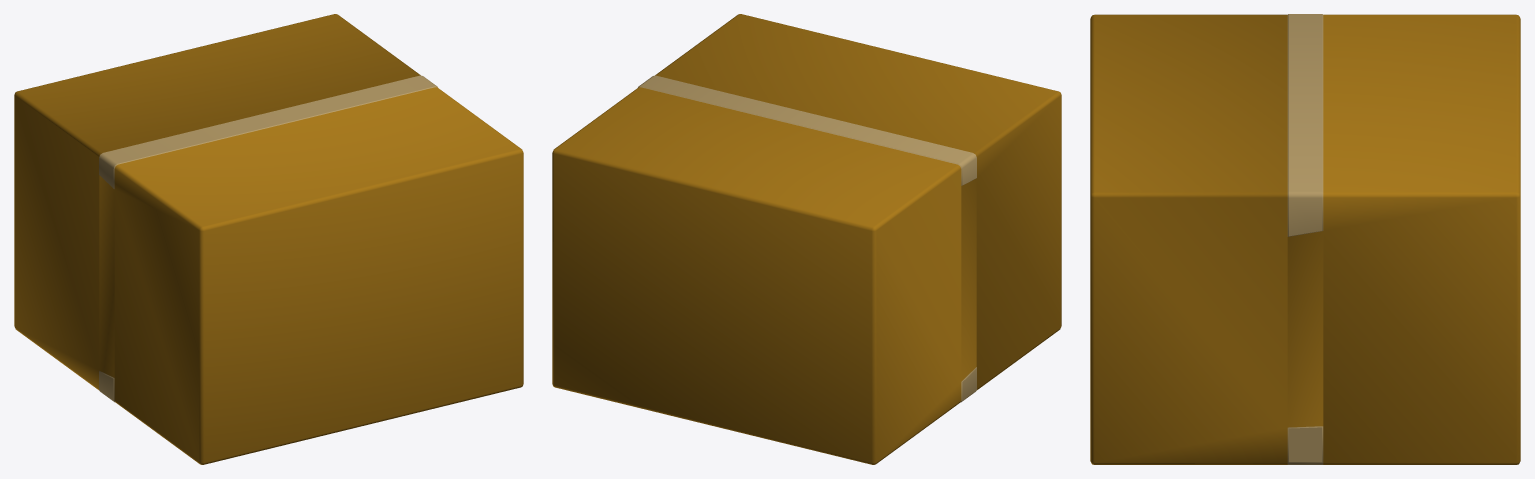
3 views of the same model, side by side, from view 1: azimuth 30°, elevation 25°; view 2: azimuth 150°, elevation 25°; view 3: azimuth 270°, elevation 25° (orthographic). The views are drawn at different scales.
Visible parts, largest first — view 1: 2x2x2; view 2: 2x2x2; view 3: 2x2x2.
Part boxes in pixels (box(x1,y1,x2,y2)): 2x2x2: box(14, 14, 523, 464); 2x2x2: box(552, 14, 1061, 464); 2x2x2: box(1090, 14, 1520, 464).
Bounding box in the file's own units: 19.76 × 13.89 × 19.8.
